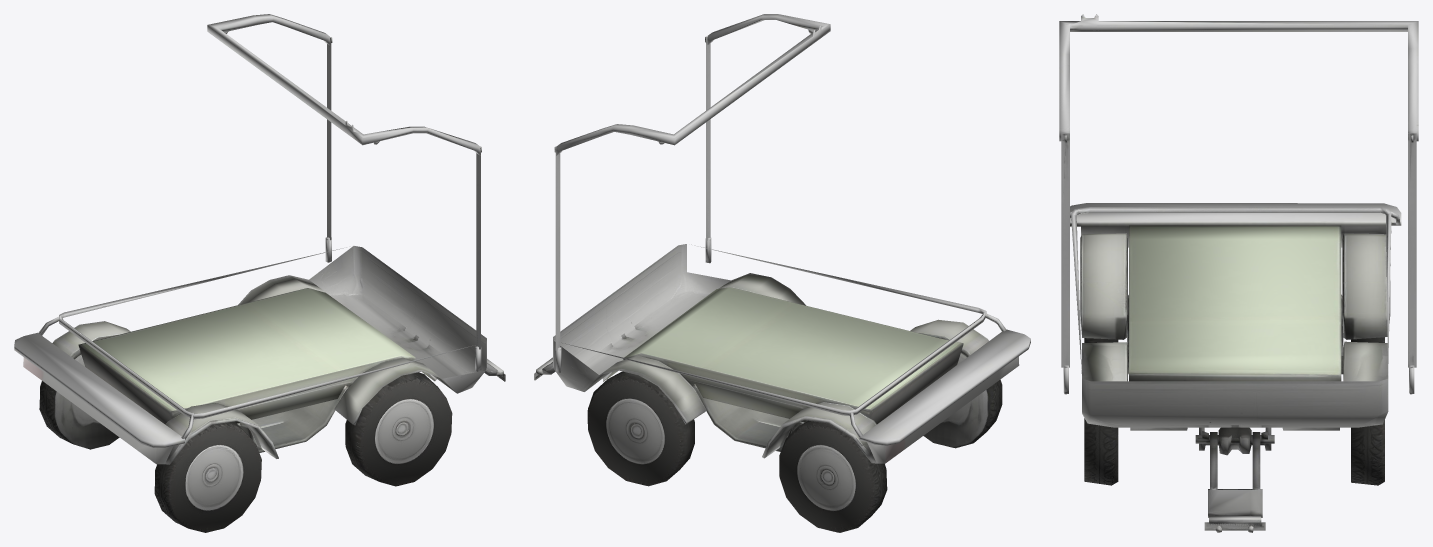
The model's file is baggage-tug.glb.
The picture shows the model from 3 angles, left to right: view 1: azimuth 30°, elevation 25°; view 2: azimuth 150°, elevation 25°; view 3: azimuth 270°, elevation 25°; orthographic projection. The views are drawn at different scales.
Visible parts, largest first — view 1: tripo_node_d0206de3-208a-42ab-956b-98bf50937788; view 2: tripo_node_d0206de3-208a-42ab-956b-98bf50937788; view 3: tripo_node_d0206de3-208a-42ab-956b-98bf50937788.
Boxes of the visible parts, bbox=[...] form: tripo_node_d0206de3-208a-42ab-956b-98bf50937788: bbox=[14, 14, 505, 532]; tripo_node_d0206de3-208a-42ab-956b-98bf50937788: bbox=[534, 14, 1030, 532]; tripo_node_d0206de3-208a-42ab-956b-98bf50937788: bbox=[1059, 14, 1418, 532].
Size of the model in its own units: 0.998 by 0.8574 by 0.6426.
1 material, 1 textured.
